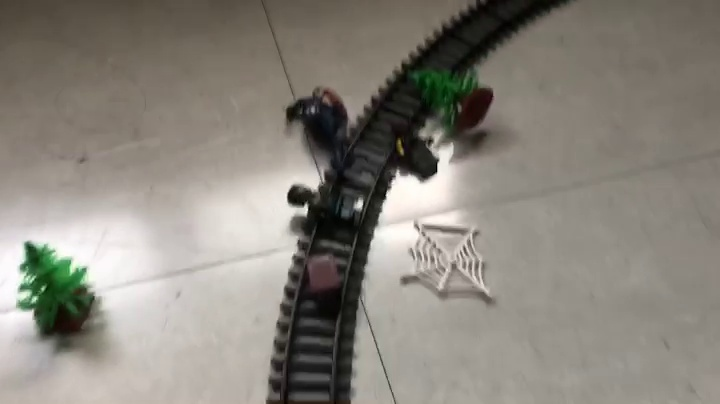box: (304, 252, 346, 308)
people: (285, 87, 361, 177), (288, 180, 368, 231), (389, 124, 442, 182)
tree: (16, 241, 97, 339), (406, 66, 495, 134)
web: (396, 219, 498, 304)
